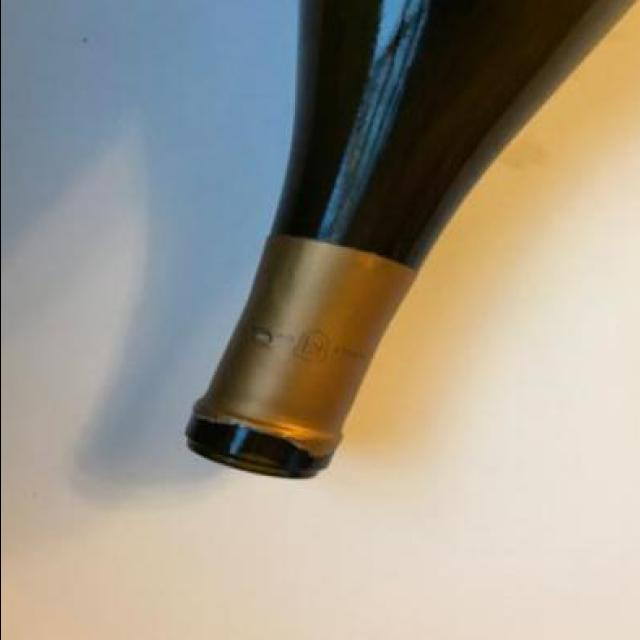kaca: (183, 0, 640, 481)
